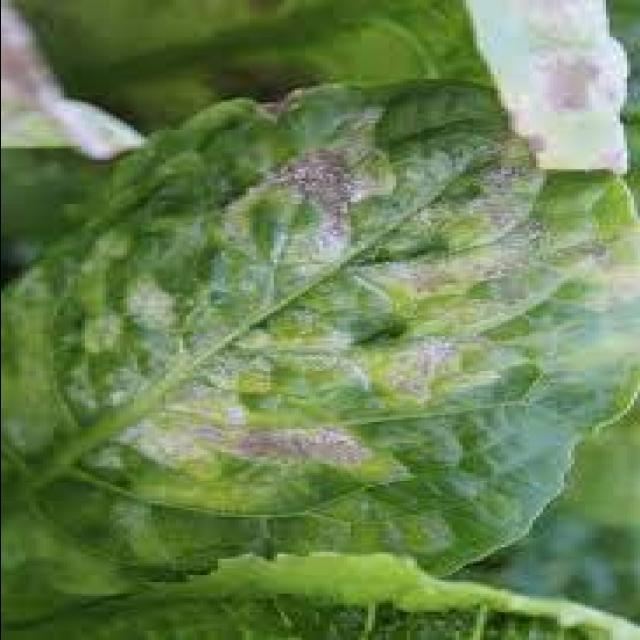Mature: (192, 127, 505, 543)
